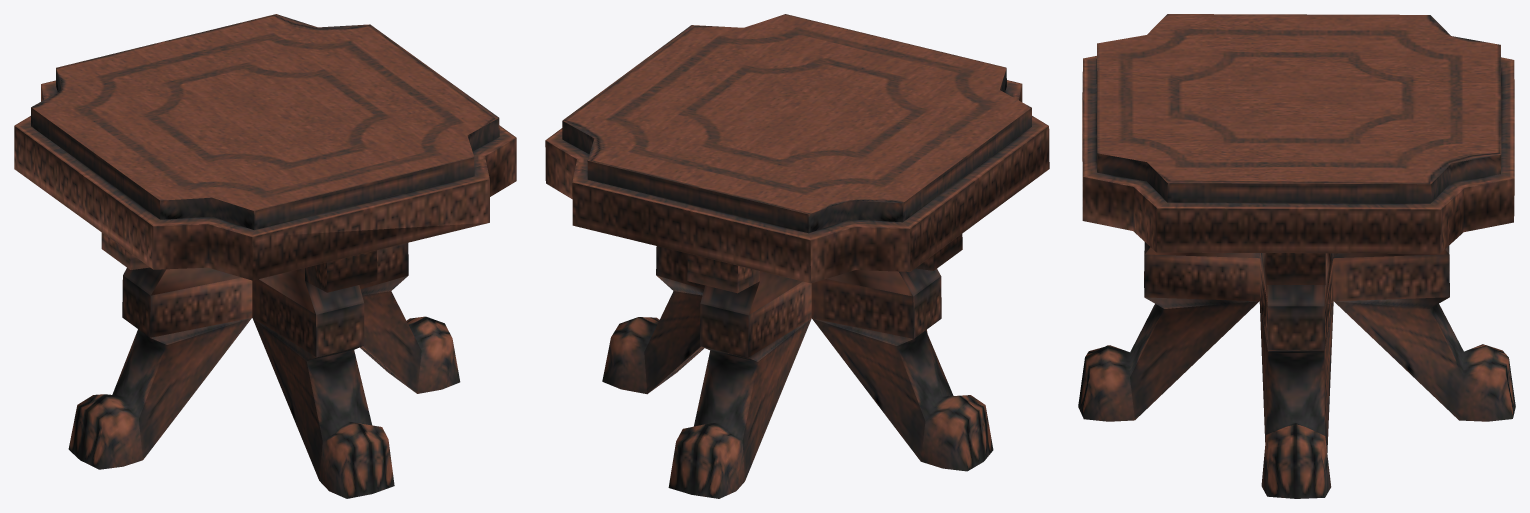
File: d_yz_shouyou_zhuozi05_qt.FBX
3 views of the same model, side by side, from view 1: azimuth 30°, elevation 25°; view 2: azimuth 150°, elevation 25°; view 3: azimuth 270°, elevation 25° (orthographic). The views are drawn at different scales.
Parts seen in each view (by area): view 1: d_yz_shouyou_yizi03_qt; view 2: d_yz_shouyou_yizi03_qt; view 3: d_yz_shouyou_yizi03_qt.
Part boxes in pixels (left/top/right/bottom): d_yz_shouyou_yizi03_qt: left=14, top=14, right=516, bottom=498; d_yz_shouyou_yizi03_qt: left=545, top=14, right=1049, bottom=498; d_yz_shouyou_yizi03_qt: left=1078, top=14, right=1515, bottom=498.
Bounding box in the file's own units: 1.18 × 0.9251 × 1.18.
